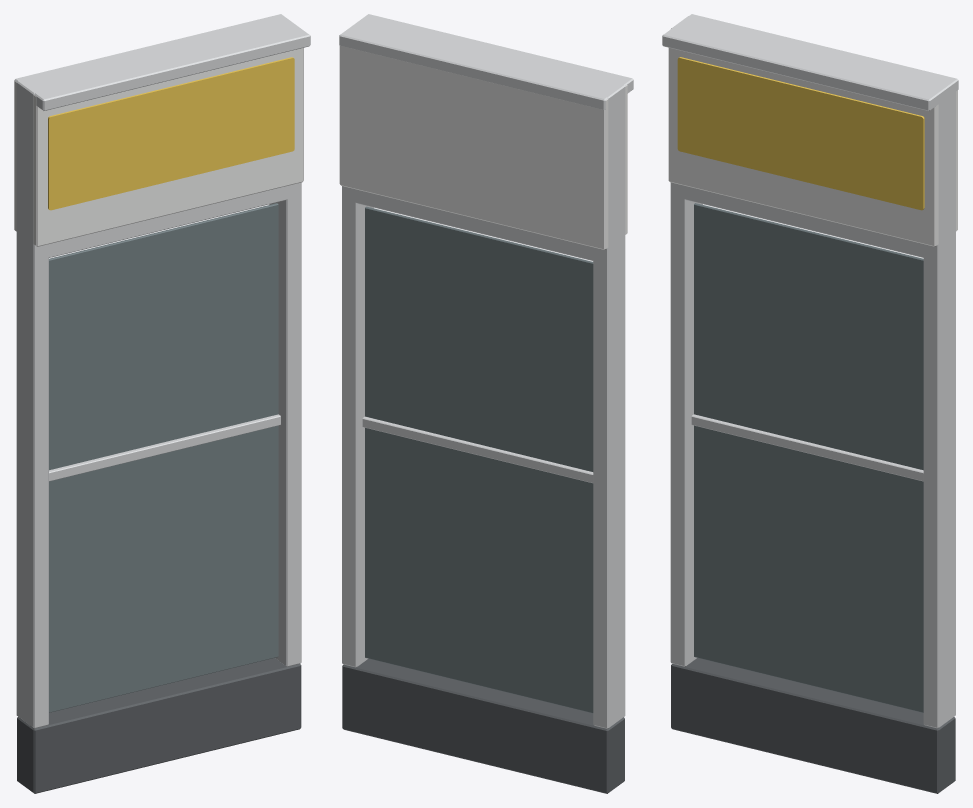
File: shop-glazed-bay.glb
3 renders of one model, left to right at view 1: azimuth 30°, elevation 25°; view 2: azimuth 150°, elevation 25°; view 3: azimuth 330°, elevation 25°, orthographic.
Visible parts, largest first — view 1: shopfront-module-glazed; view 2: shopfront-module-glazed; view 3: shopfront-module-glazed.
Part boxes in pixels (<box>): shopfront-module-glazed: <box>14,14,310,793</box>; shopfront-module-glazed: <box>339,14,633,793</box>; shopfront-module-glazed: <box>662,14,958,793</box>.
Size of the model in its own units: 1.2 by 3 by 0.2301.
